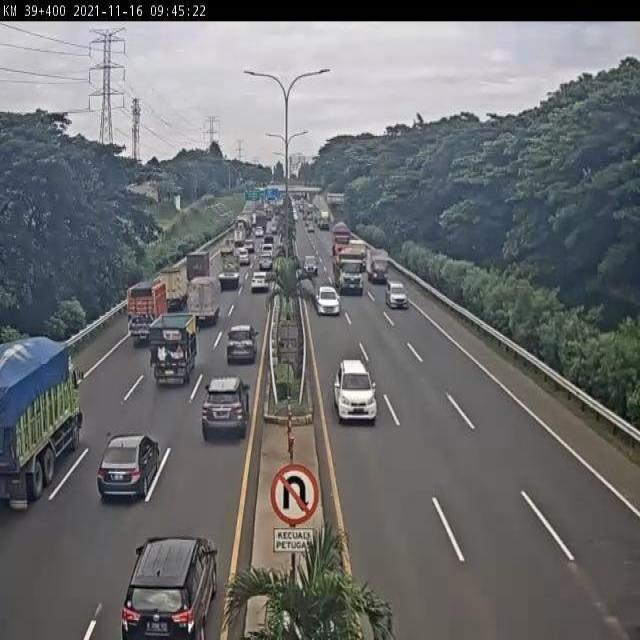Car: (121, 537, 218, 639), (98, 435, 161, 501), (201, 376, 249, 440), (334, 358, 376, 423), (226, 324, 256, 364), (218, 254, 240, 290), (318, 288, 340, 315), (386, 281, 406, 308), (250, 272, 268, 292), (304, 256, 318, 276), (238, 250, 250, 266)
Truck: (0, 337, 83, 508), (148, 312, 199, 384), (125, 281, 168, 344), (332, 242, 367, 295), (188, 278, 218, 322), (366, 248, 389, 282)
